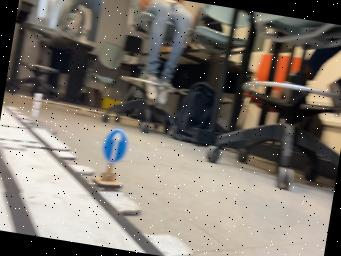forward: (93, 128, 127, 188), (93, 128, 127, 188), (93, 128, 127, 188), (93, 128, 127, 188), (93, 128, 127, 188), (93, 128, 127, 188)
street: (0, 105, 163, 256), (0, 105, 163, 256), (0, 105, 163, 256), (0, 105, 163, 256), (0, 105, 163, 256), (0, 105, 163, 256)
traffic_light: (30, 93, 42, 118), (30, 93, 42, 118), (30, 93, 42, 118), (30, 93, 42, 118), (30, 93, 42, 118), (30, 93, 42, 118)
